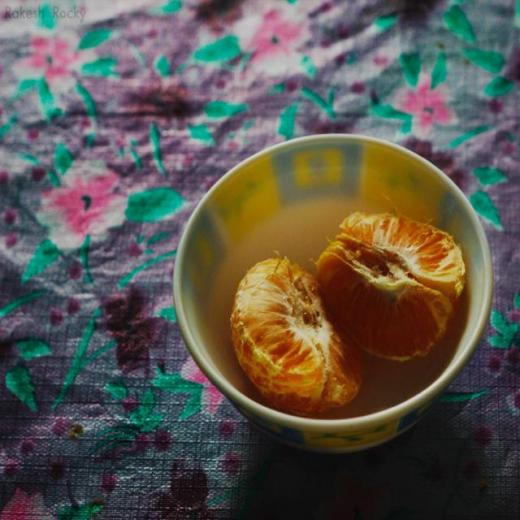Grape: (308, 194, 476, 376), (231, 257, 363, 407)
